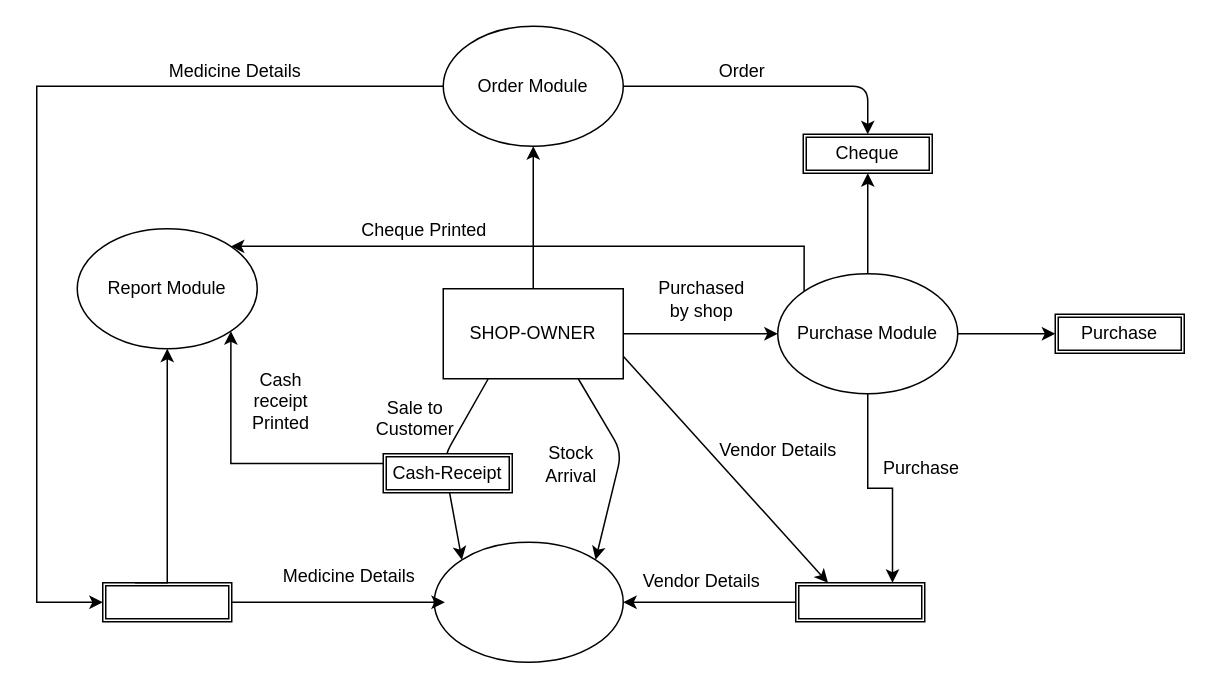
The diagram is 1211 pixels wide and 689 high, and some of its shapes have lost their labels. Here are the shapes that lost their labels. From the top down, the centre of each, then its label:
pixel 166 601: Medicine
pixel 528 601: Update Module
pixel 859 601: Vendor
